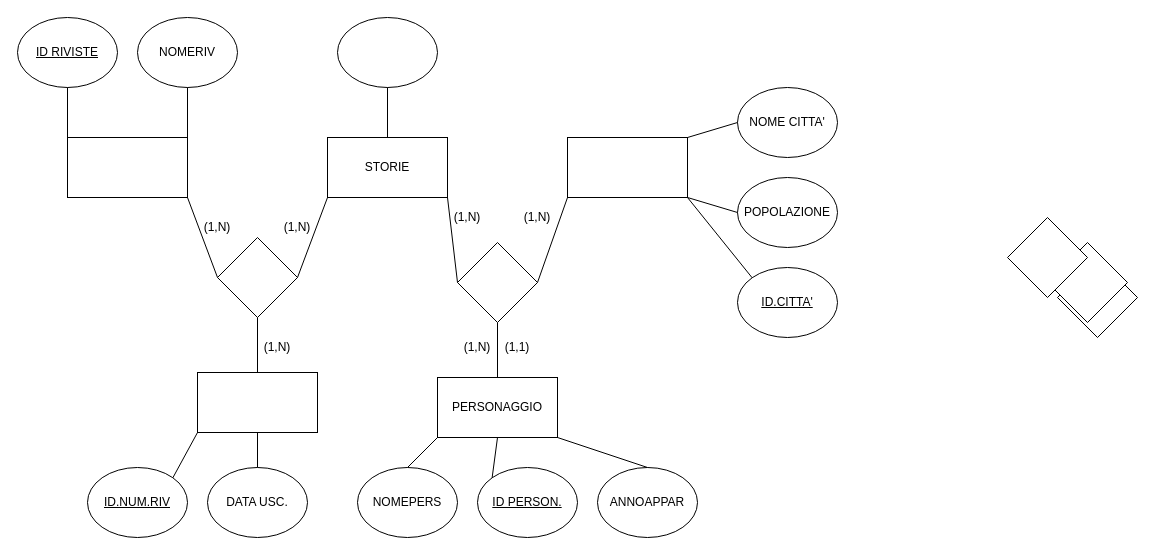
Some shapes in this 1155 by 555 pixel diagram are drawn without their labels. Here are the shapes that lost their labels. From the top down, the box of each, then its label:
(336, 16, 438, 88): ID. STORIE
(66, 136, 188, 198): RIVISTE
(566, 136, 688, 198): CITTA'
(216, 236, 298, 318): PUBBL.
(456, 242, 538, 322): TRAMA
(196, 372, 318, 432): NUM. RIVISTE
